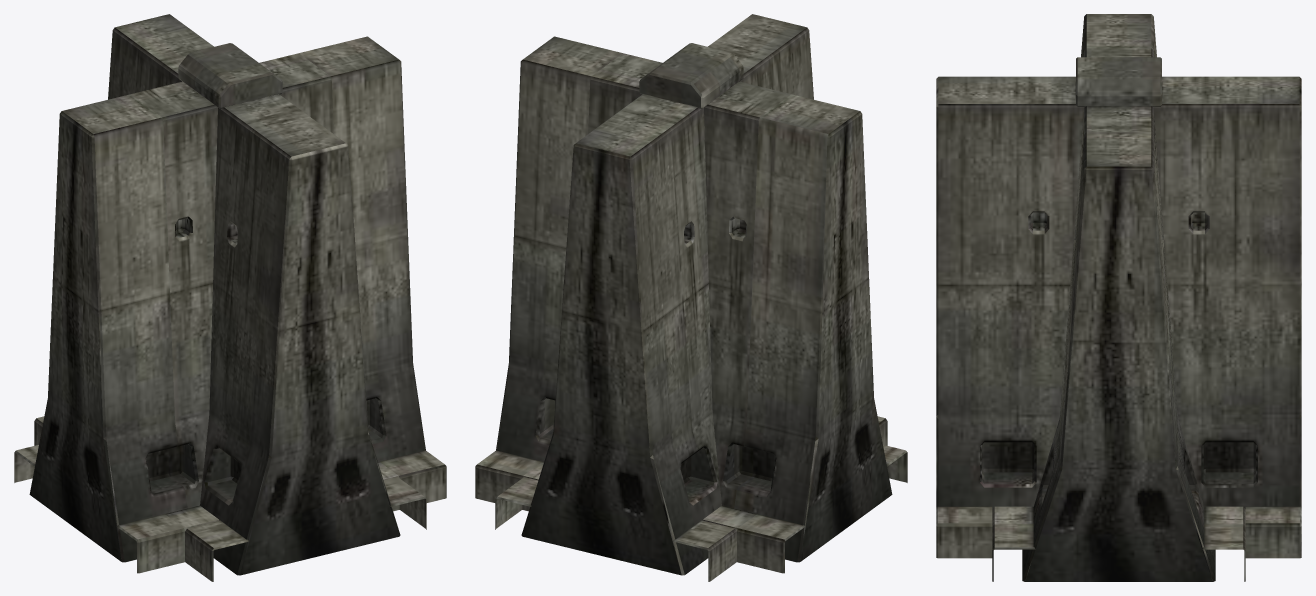
Rendered from stone-wall-nesw.glb.
The picture shows the model from 3 angles, left to right: view 1: azimuth 30°, elevation 25°; view 2: azimuth 150°, elevation 25°; view 3: azimuth 270°, elevation 25°; orthographic projection. The views are drawn at different scales.
Parts seen in each view (by area): view 1: body; view 2: body; view 3: body.
Boxes of the visible parts, x1,y1,x2,y2 form: body: (14,14,446,581); body: (475,14,907,581); body: (936,14,1301,581).
Bounding box in the file's own units: 1 × 1.32 × 1.
1 material, 1 textured.
